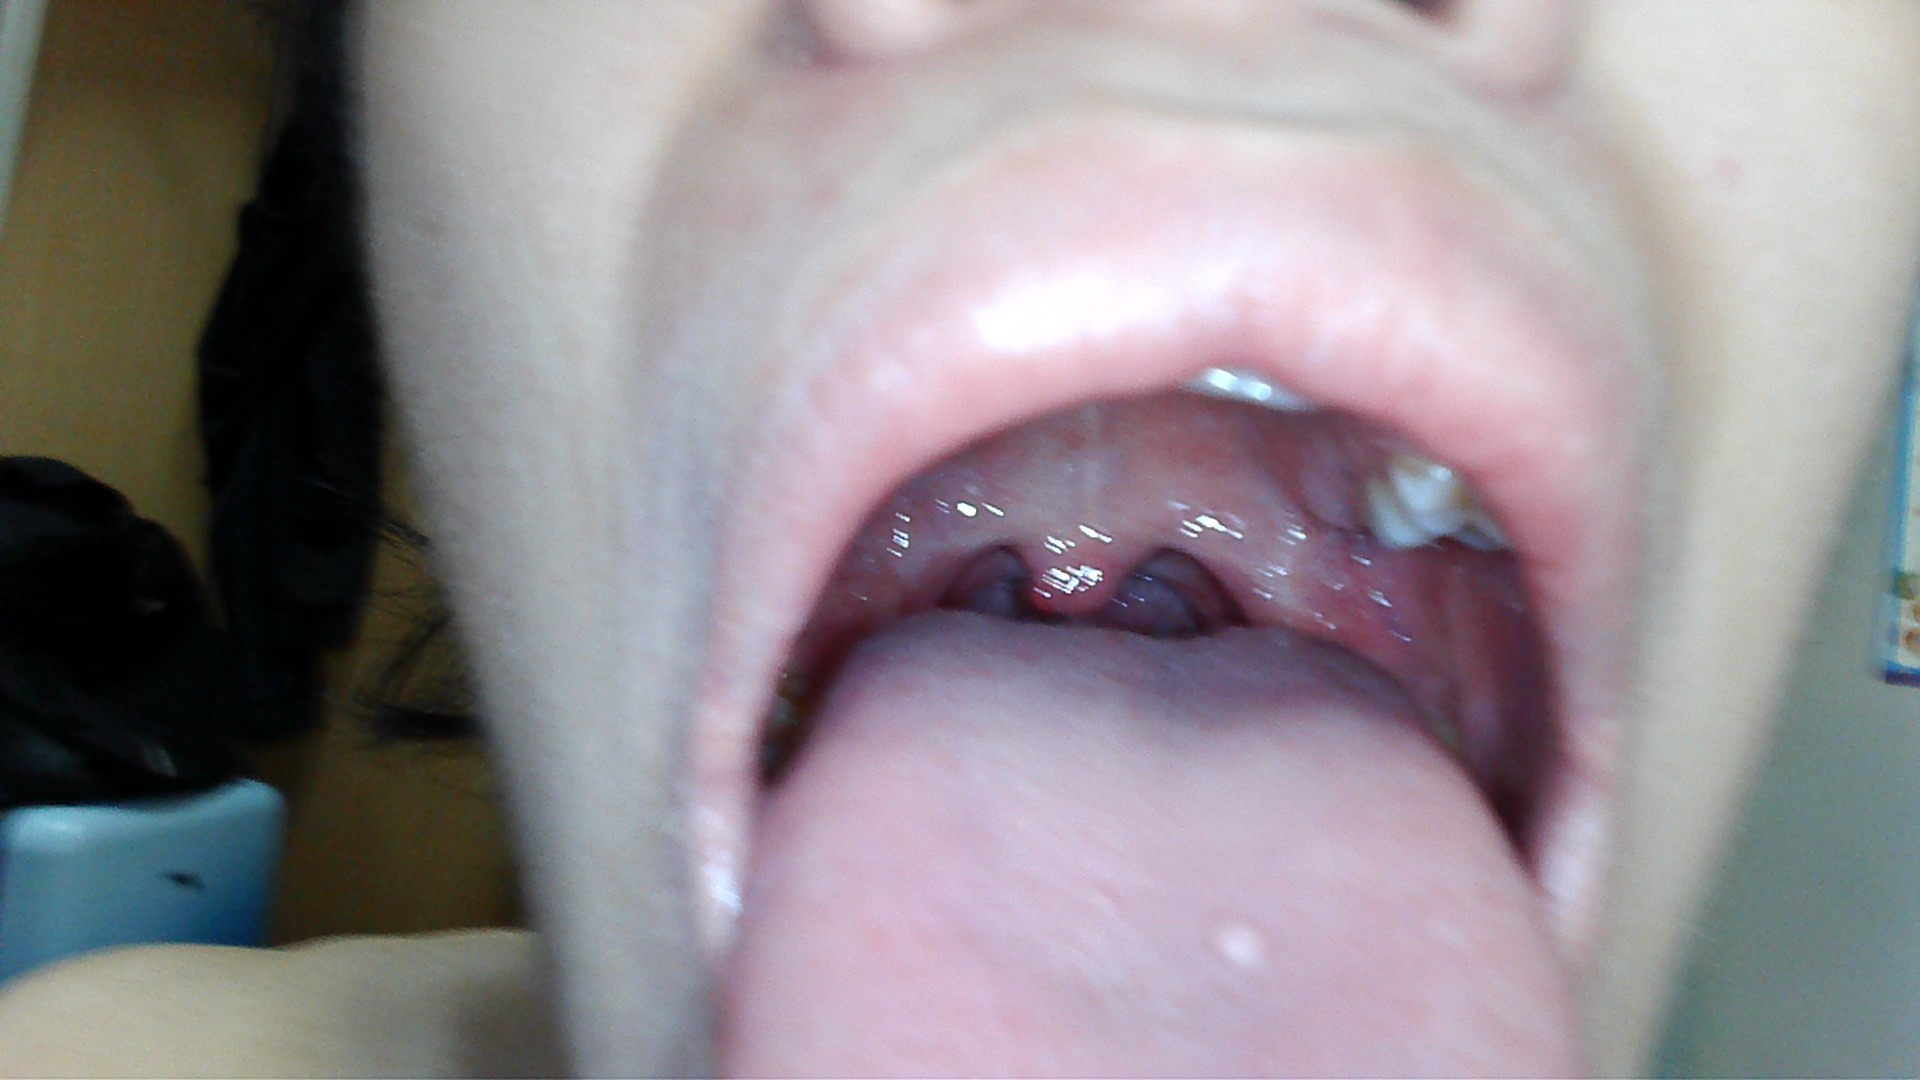throat: (1197, 516, 1298, 628), (902, 516, 994, 608)
